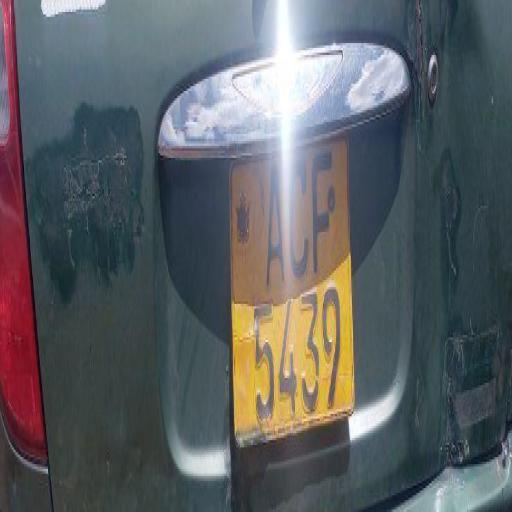number-plates: (231, 161, 347, 424)
